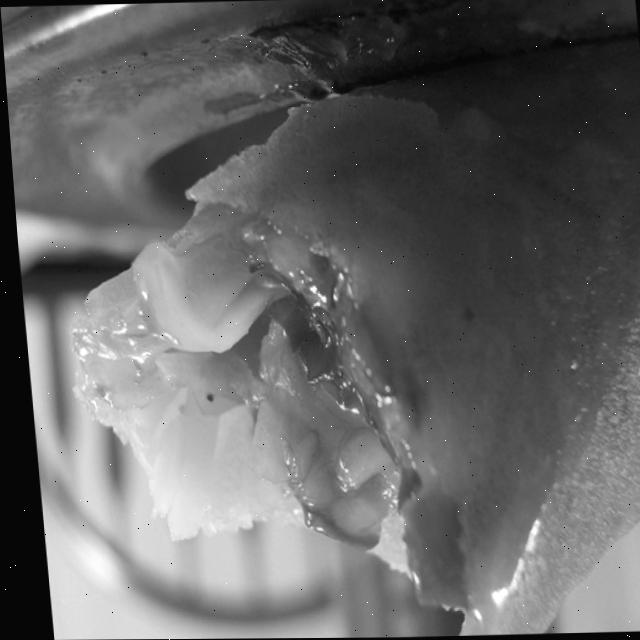炸货点心: (5, 9, 640, 638)
